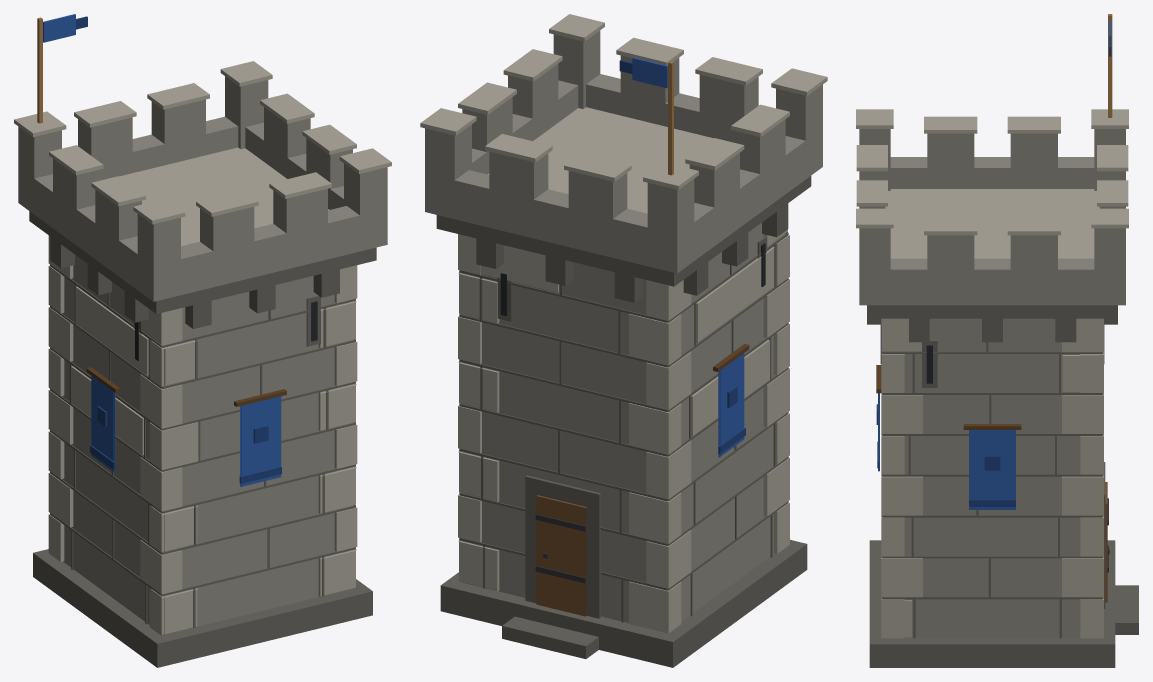
The model's file is stone-tower.glb.
The picture shows the model from 3 angles, left to right: view 1: azimuth 30°, elevation 25°; view 2: azimuth 150°, elevation 25°; view 3: azimuth 270°, elevation 25°; orthographic projection. The views are drawn at different scales.
Parts seen in each view (by area): view 1: stone-tower; view 2: stone-tower; view 3: stone-tower.
Boxes of the visible parts, bbox=[...] form: stone-tower: bbox=[14, 14, 391, 667]; stone-tower: bbox=[420, 14, 827, 667]; stone-tower: bbox=[856, 14, 1138, 667].
Bounding box in the file's own units: 5.22 × 11.64 × 5.41.
1 material, 1 textured.
